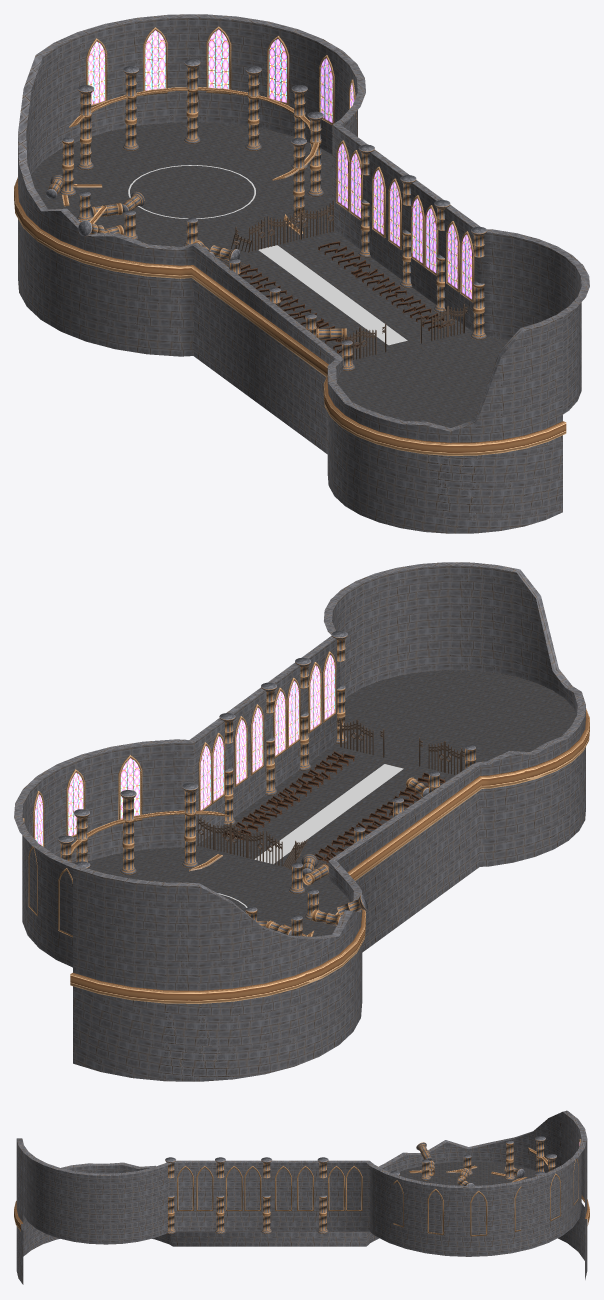
The model's file is level3.gltf.
The picture shows the model from 3 angles, top to bottom: view 1: azimuth 30°, elevation 25°; view 2: azimuth 150°, elevation 25°; view 3: azimuth 270°, elevation 25°; orthographic projection. The views are drawn at different scales.
Parts seen in each view (by area): view 1: Cylinder.011, Cylinder.007, Cylinder.013, Cylinder.023, Cylinder.012, Plane.005, Marco_low.012, Marco_low.009, Marco_low.010, Circle, Marco_low.011, Marco_low.008 (+8 smaller); view 2: Cylinder.011, Cylinder.013, Cylinder.007, Cylinder.012, Cylinder.023, Plane.005, Marco_low.016, Marco_low.014, Marco_low, Marco_low.004, Marco_low.007, Marco_low.005 (+4 smaller); view 3: Cylinder.011, Cylinder.013, Cylinder.023, Cylinder.007.
Part boxes in pixels (box(x1,y1,x2,y2)): Cylinder.011: box(18, 17, 581, 442); Cylinder.007: box(31, 122, 509, 427); Cylinder.013: box(18, 219, 562, 533); Cylinder.023: box(18, 14, 589, 431); Cylinder.012: box(14, 177, 566, 455); Plane.005: box(258, 245, 407, 345); Marco_low.012: box(206, 26, 231, 94); Marco_low.009: box(143, 27, 167, 95); Marco_low.010: box(267, 36, 289, 105); Circle: box(69, 87, 319, 180); Marco_low.011: box(86, 38, 107, 106); Marco_low.008: box(319, 55, 334, 124); Cylinder.011: box(22, 565, 585, 990); Cylinder.013: box(73, 747, 585, 1081); Cylinder.007: box(87, 670, 576, 936); Cylinder.012: box(70, 708, 589, 1003); Cylinder.023: box(14, 562, 585, 939); Plane.005: box(254, 764, 403, 863); Marco_low.016: box(118, 755, 142, 823); Marco_low.014: box(66, 769, 85, 837); Marco_low: box(322, 651, 336, 722); Marco_low.004: box(250, 704, 264, 775); Marco_low.007: box(198, 742, 212, 810); Marco_low.005: box(234, 716, 247, 787); Cylinder.011: box(16, 1112, 587, 1256); Cylinder.013: box(16, 1203, 587, 1284); Cylinder.023: box(16, 1110, 587, 1188); Cylinder.007: box(399, 1161, 536, 1185).
Size of the model in its own units: 63.68 by 39.19 by 153.
Materials: 8 (8 with a texture image).
